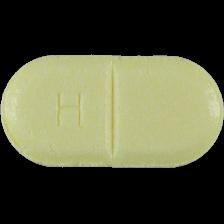0143-9920: (0, 0, 224, 224)
